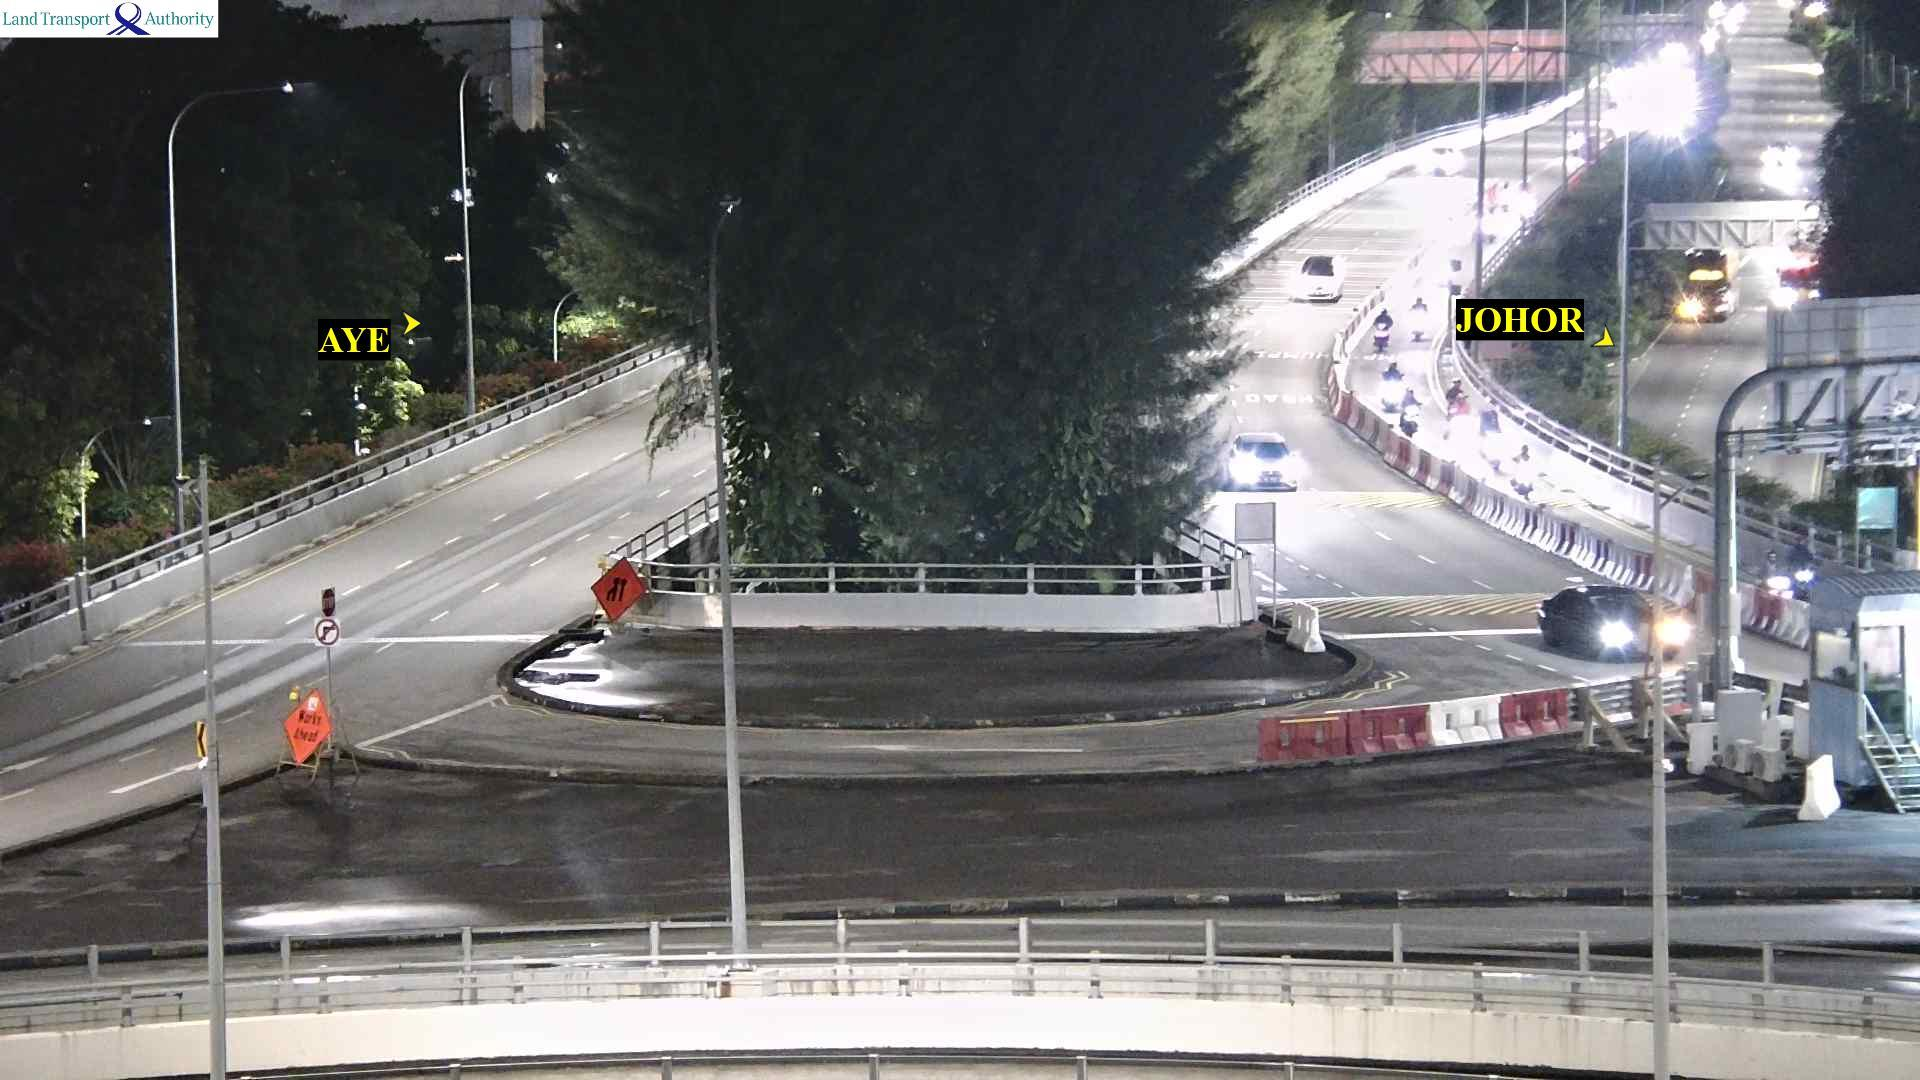vehicle-secondlink-johor: (1539, 584, 1681, 667), (1228, 423, 1295, 495), (1291, 248, 1347, 304), (1757, 548, 1790, 600), (1511, 445, 1540, 497), (1478, 400, 1499, 469), (1425, 143, 1470, 172), (1382, 364, 1405, 410), (1372, 298, 1392, 350), (1443, 376, 1461, 415), (1411, 296, 1423, 338)
